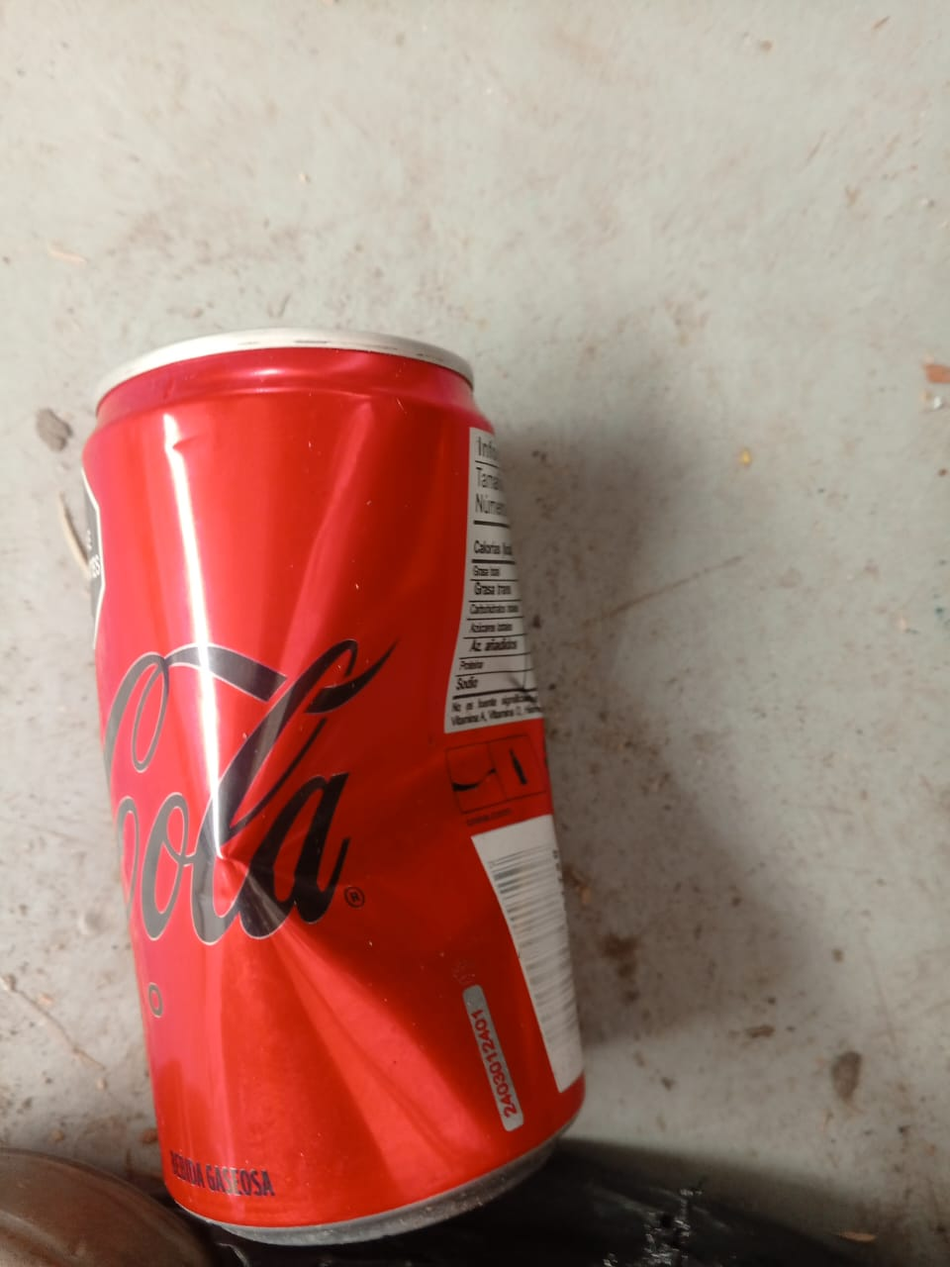Metal: (81, 330, 588, 1249)
